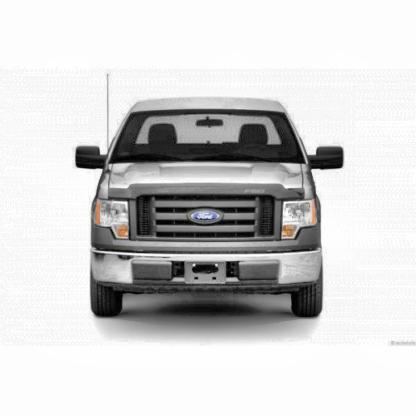Ford F-150 Regular Cab 2012: (76, 96, 347, 322)
